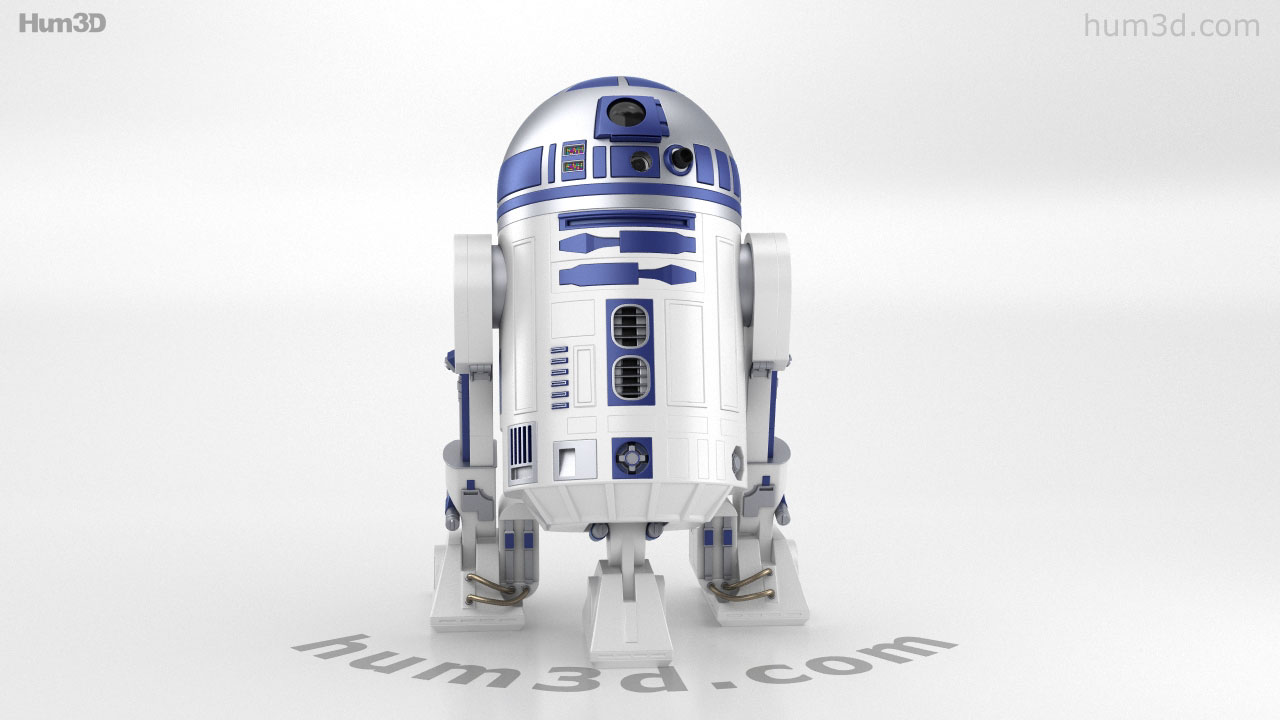r2d2: (424, 74, 807, 662)
